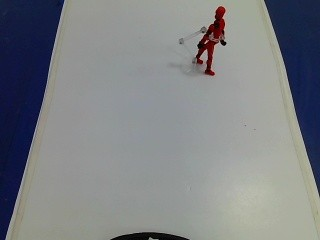pedestrian: (189, 3, 231, 80)
